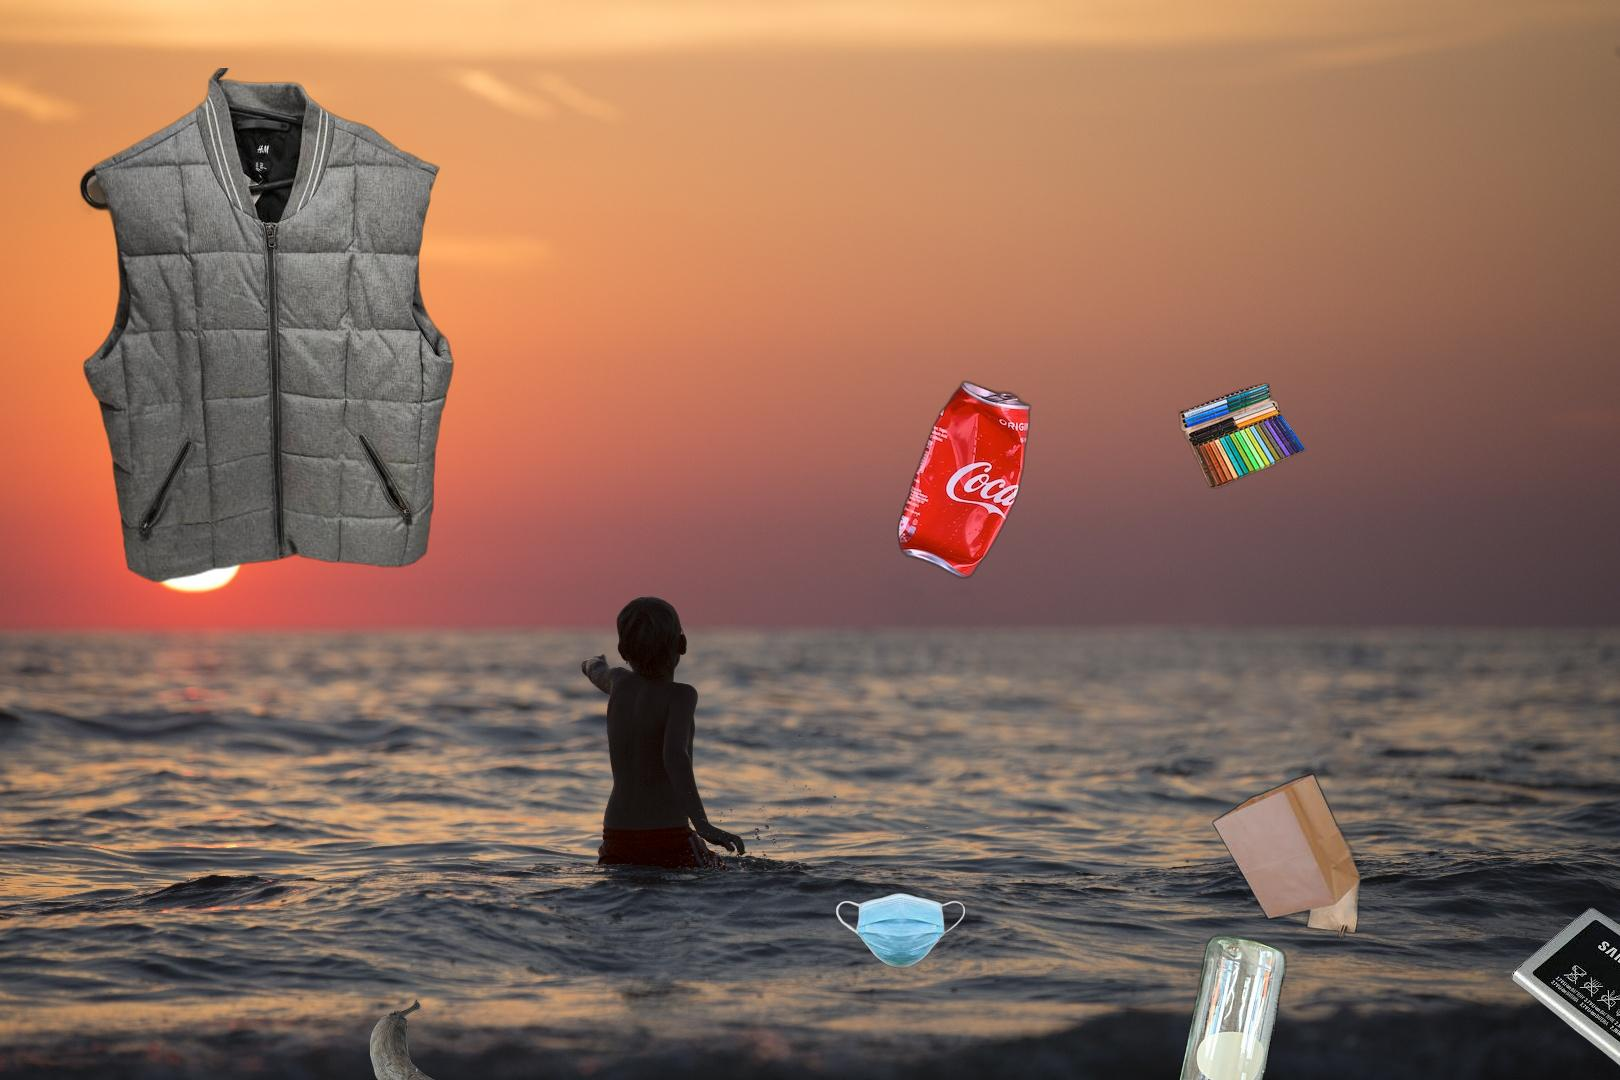battery: (1508, 905, 1620, 1080)
biological: (368, 997, 534, 1080)
clothes: (75, 67, 457, 587)
glass: (1168, 929, 1290, 1080)
metal-cans: (893, 375, 1035, 585)
paper-bag: (1210, 771, 1363, 946)
penholder: (1175, 381, 1309, 489)
trash: (833, 890, 968, 972)
